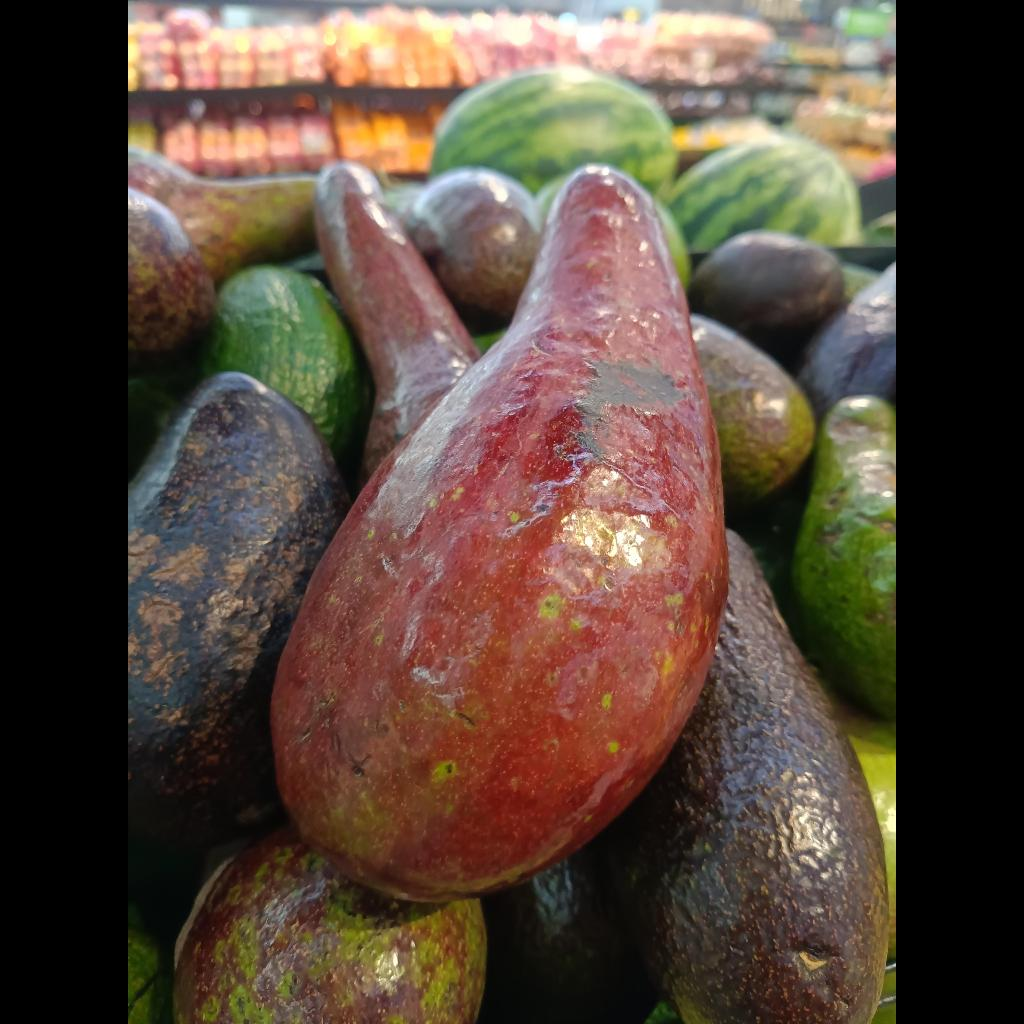antracnosis_fruto: (272, 166, 728, 901), (128, 373, 350, 847), (174, 828, 486, 1024)
